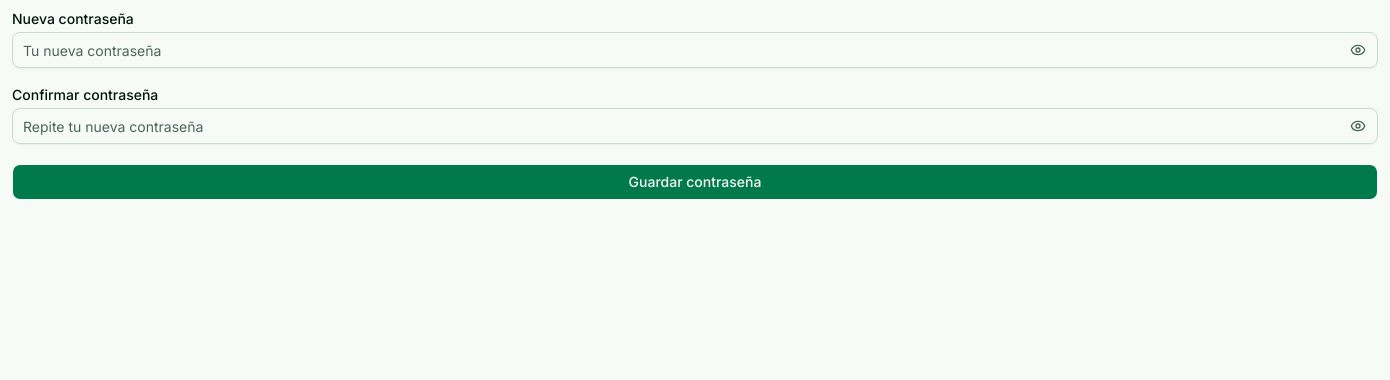
ResetPasswordForm › shows a mismatch message when confirm password differs
Type "Correcta1!" into the password field labelled "Nueva contraseña" at [695, 50], box [12,32,1378,68]
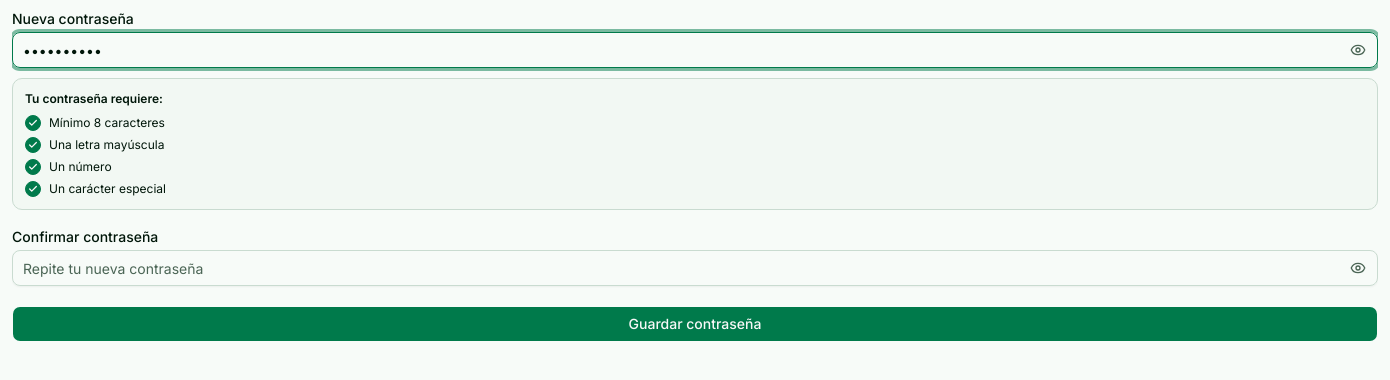
Type "Different1!" into the password field labelled "Confirmar contraseña" at [695, 268], box [12,250,1378,286]
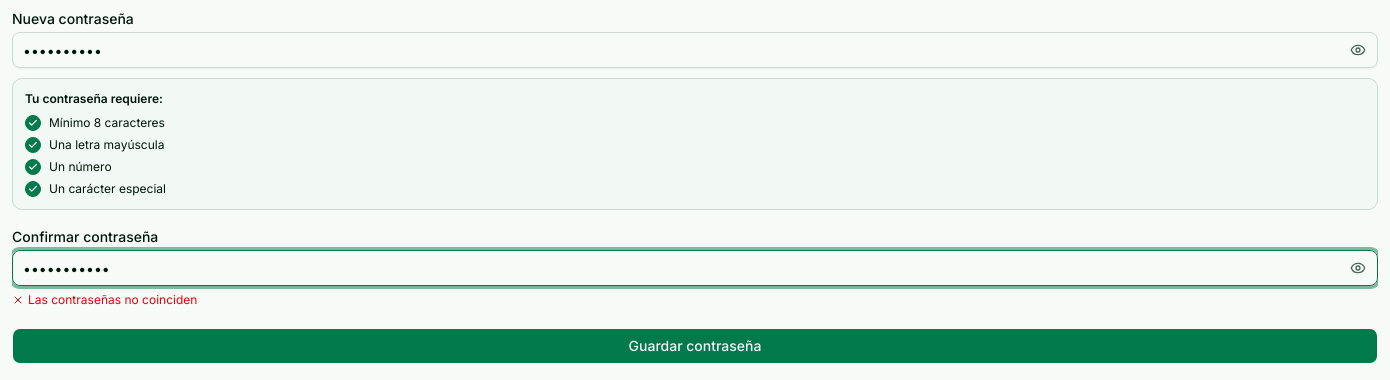
expect the text "Las contraseñas no coinciden" is shown: met, box [12,292,197,307]
